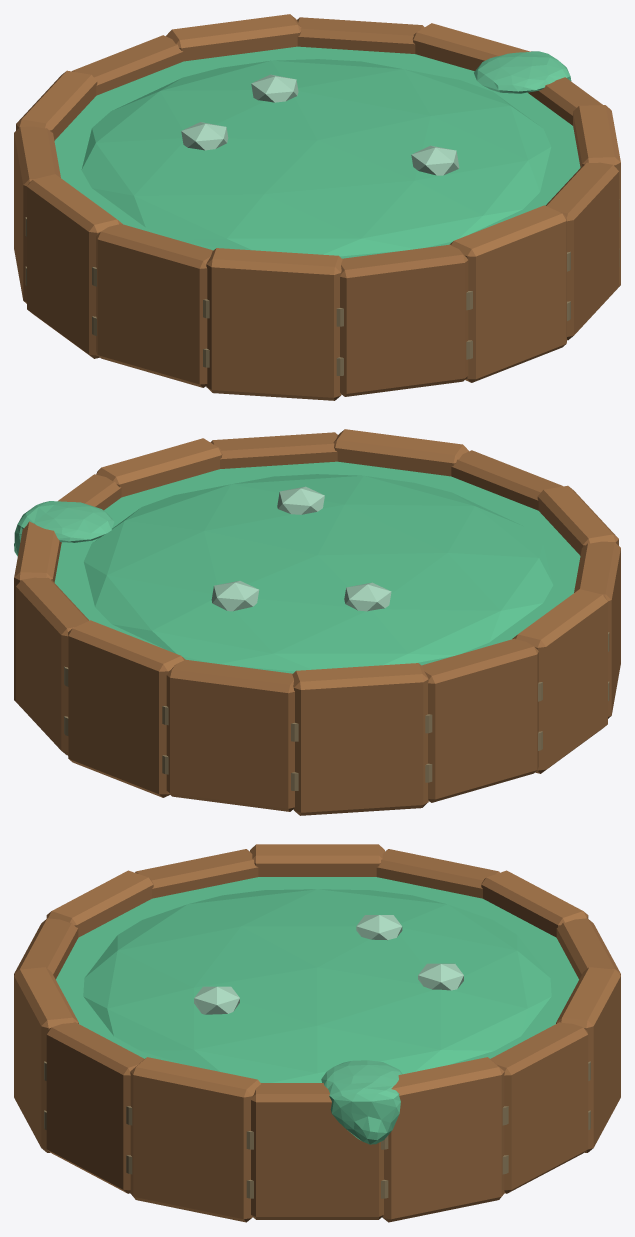
Rendered from phoenix_pad_goo.fbx.
The picture shows the model from 3 angles, top to bottom: view 1: azimuth 30°, elevation 25°; view 2: azimuth 150°, elevation 25°; view 3: azimuth 270°, elevation 25°; orthographic projection.
Visible parts, largest first — view 1: phoenix_pad_goo; view 2: phoenix_pad_goo; view 3: phoenix_pad_goo.
Part boxes in pixels (x1=…): phoenix_pad_goo: x1=14, y1=14, x2=620, y2=400; phoenix_pad_goo: x1=14, y1=429, x2=620, y2=815; phoenix_pad_goo: x1=14, y1=844, x2=620, y2=1222.
Bounding box in the file's own units: 7.91 × 2.09 × 7.86.
